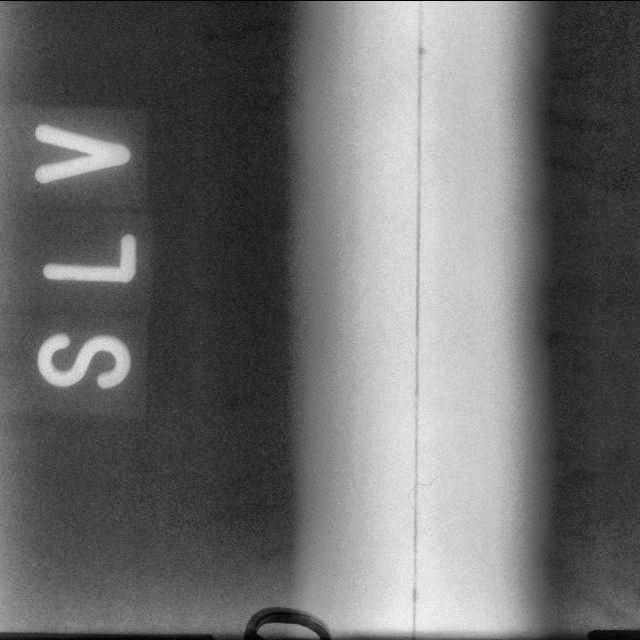LoP-LoF: (392, 6, 442, 630)
